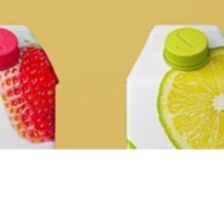carton: (121, 19, 224, 148), (0, 21, 61, 149)
